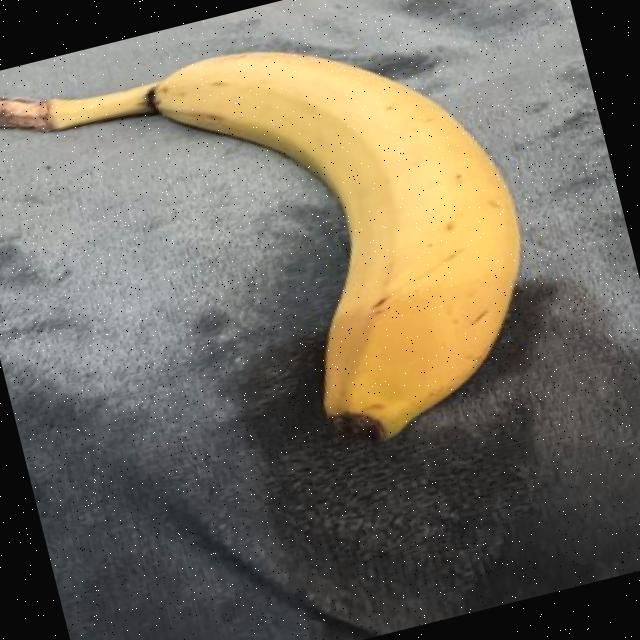Ripe: (0, 0, 614, 545)
